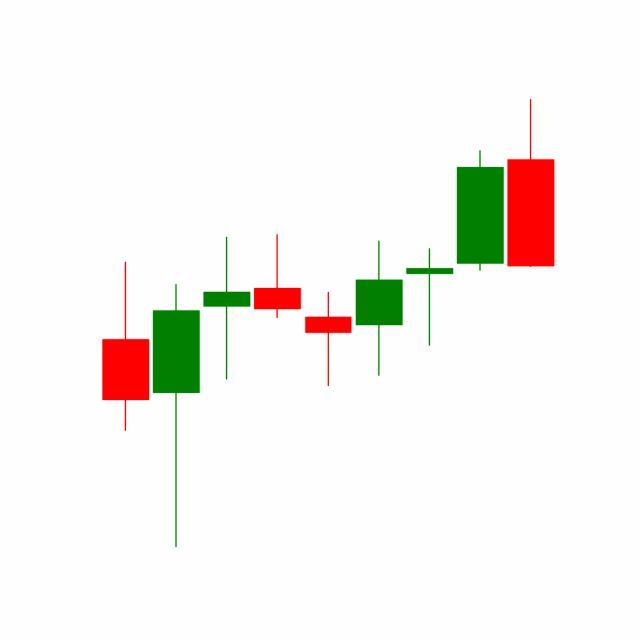Hikkake Pattern: (252, 148, 506, 390)
